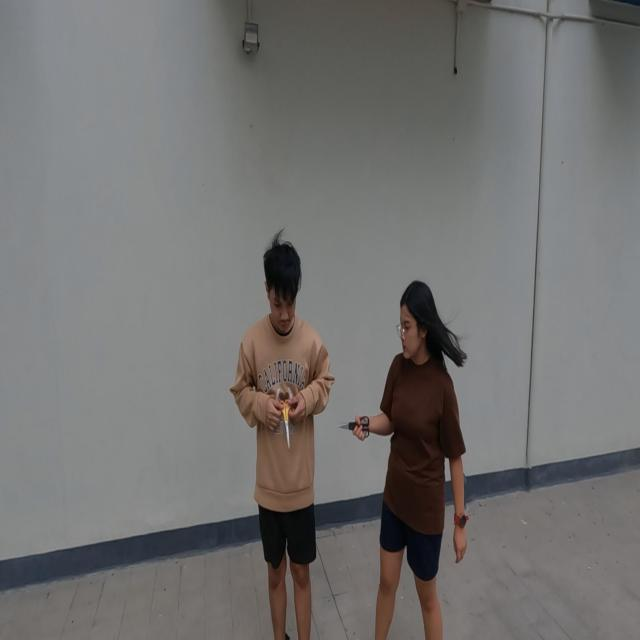scissor: (338, 414, 370, 440), (279, 398, 292, 450)
